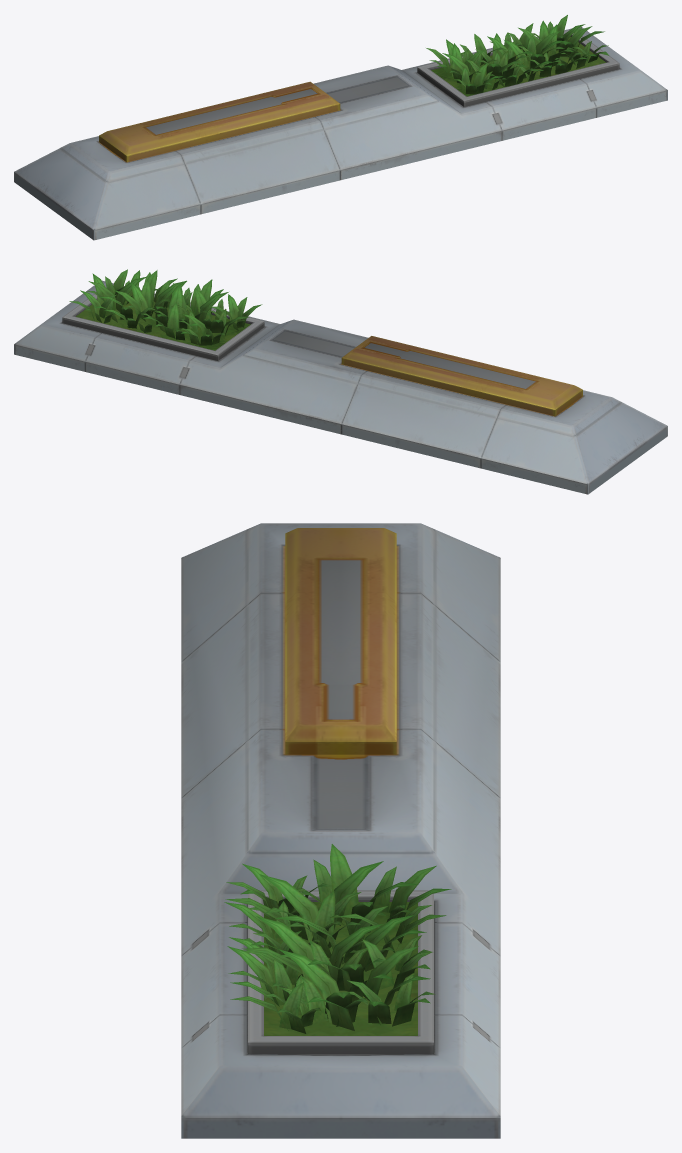
3 renders of one model, top to bottom at view 1: azimuth 30°, elevation 25°; view 2: azimuth 150°, elevation 25°; view 3: azimuth 270°, elevation 25°, orthographic. The views are drawn at different scales.
Parts seen in each view (by area): view 1: mesh_1002_zc_wj013a; view 2: mesh_1002_zc_wj013a; view 3: mesh_1002_zc_wj013a.
Part boxes in pixels (x1,y1,x2,y2): mesh_1002_zc_wj013a: [14, 15, 667, 240]; mesh_1002_zc_wj013a: [14, 269, 667, 494]; mesh_1002_zc_wj013a: [181, 523, 500, 1138].
Size of the model in its own units: 236 by 22.19 by 56.8.
1 material, 1 textured.
